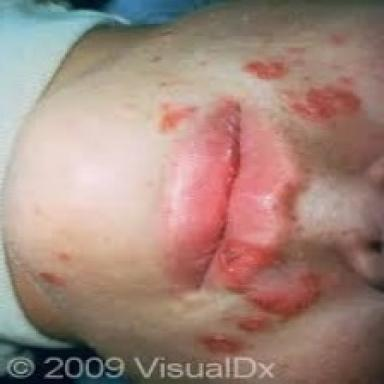Impetigo: (214, 237, 324, 335), (277, 71, 365, 123), (239, 40, 312, 81), (215, 100, 242, 184), (157, 101, 200, 135), (201, 332, 248, 356), (37, 271, 68, 306)
